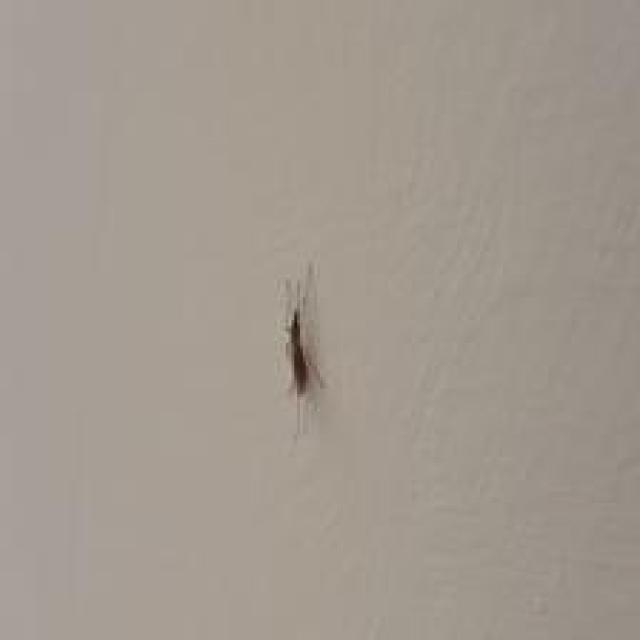Culex: (277, 260, 329, 440)
